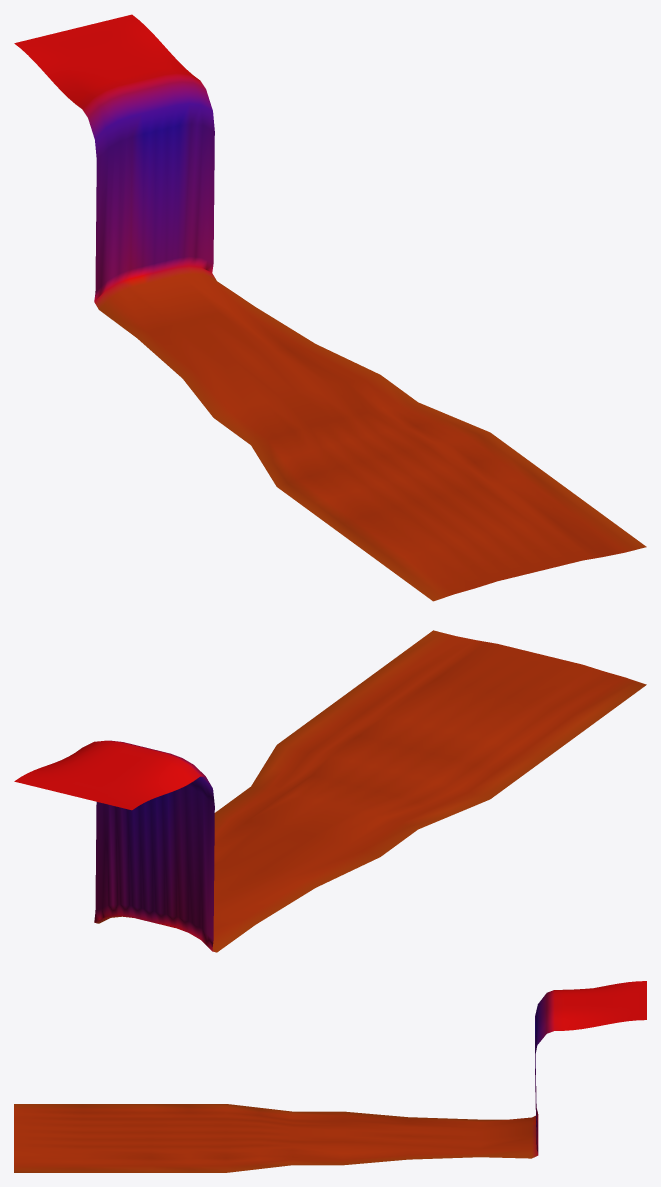
File: MywaterFallE.fbx
3 renders of one model, top to bottom at view 1: azimuth 30°, elevation 25°; view 2: azimuth 150°, elevation 25°; view 3: azimuth 270°, elevation 25°, orthographic. The views are drawn at different scales.
Visible parts, largest first — view 1: pPlane1; view 2: pPlane1; view 3: pPlane1.
Boxes of the visible parts, x1,y1,x2,y2 form: pPlane1: (14,14,646,601); pPlane1: (14,630,646,952); pPlane1: (14,981,646,1172).
Bounding box in the file's own units: 1.81 × 1.66 × 6.85.
